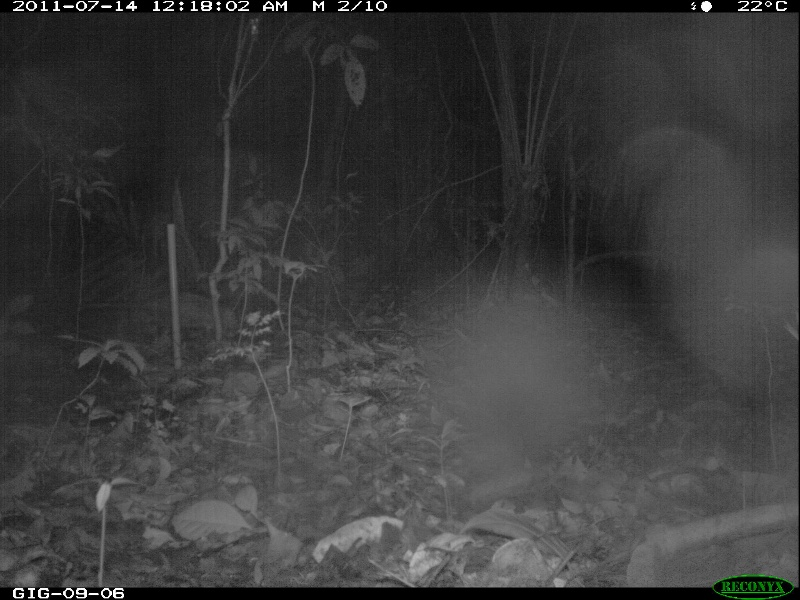opossum: (101, 287, 247, 337)
